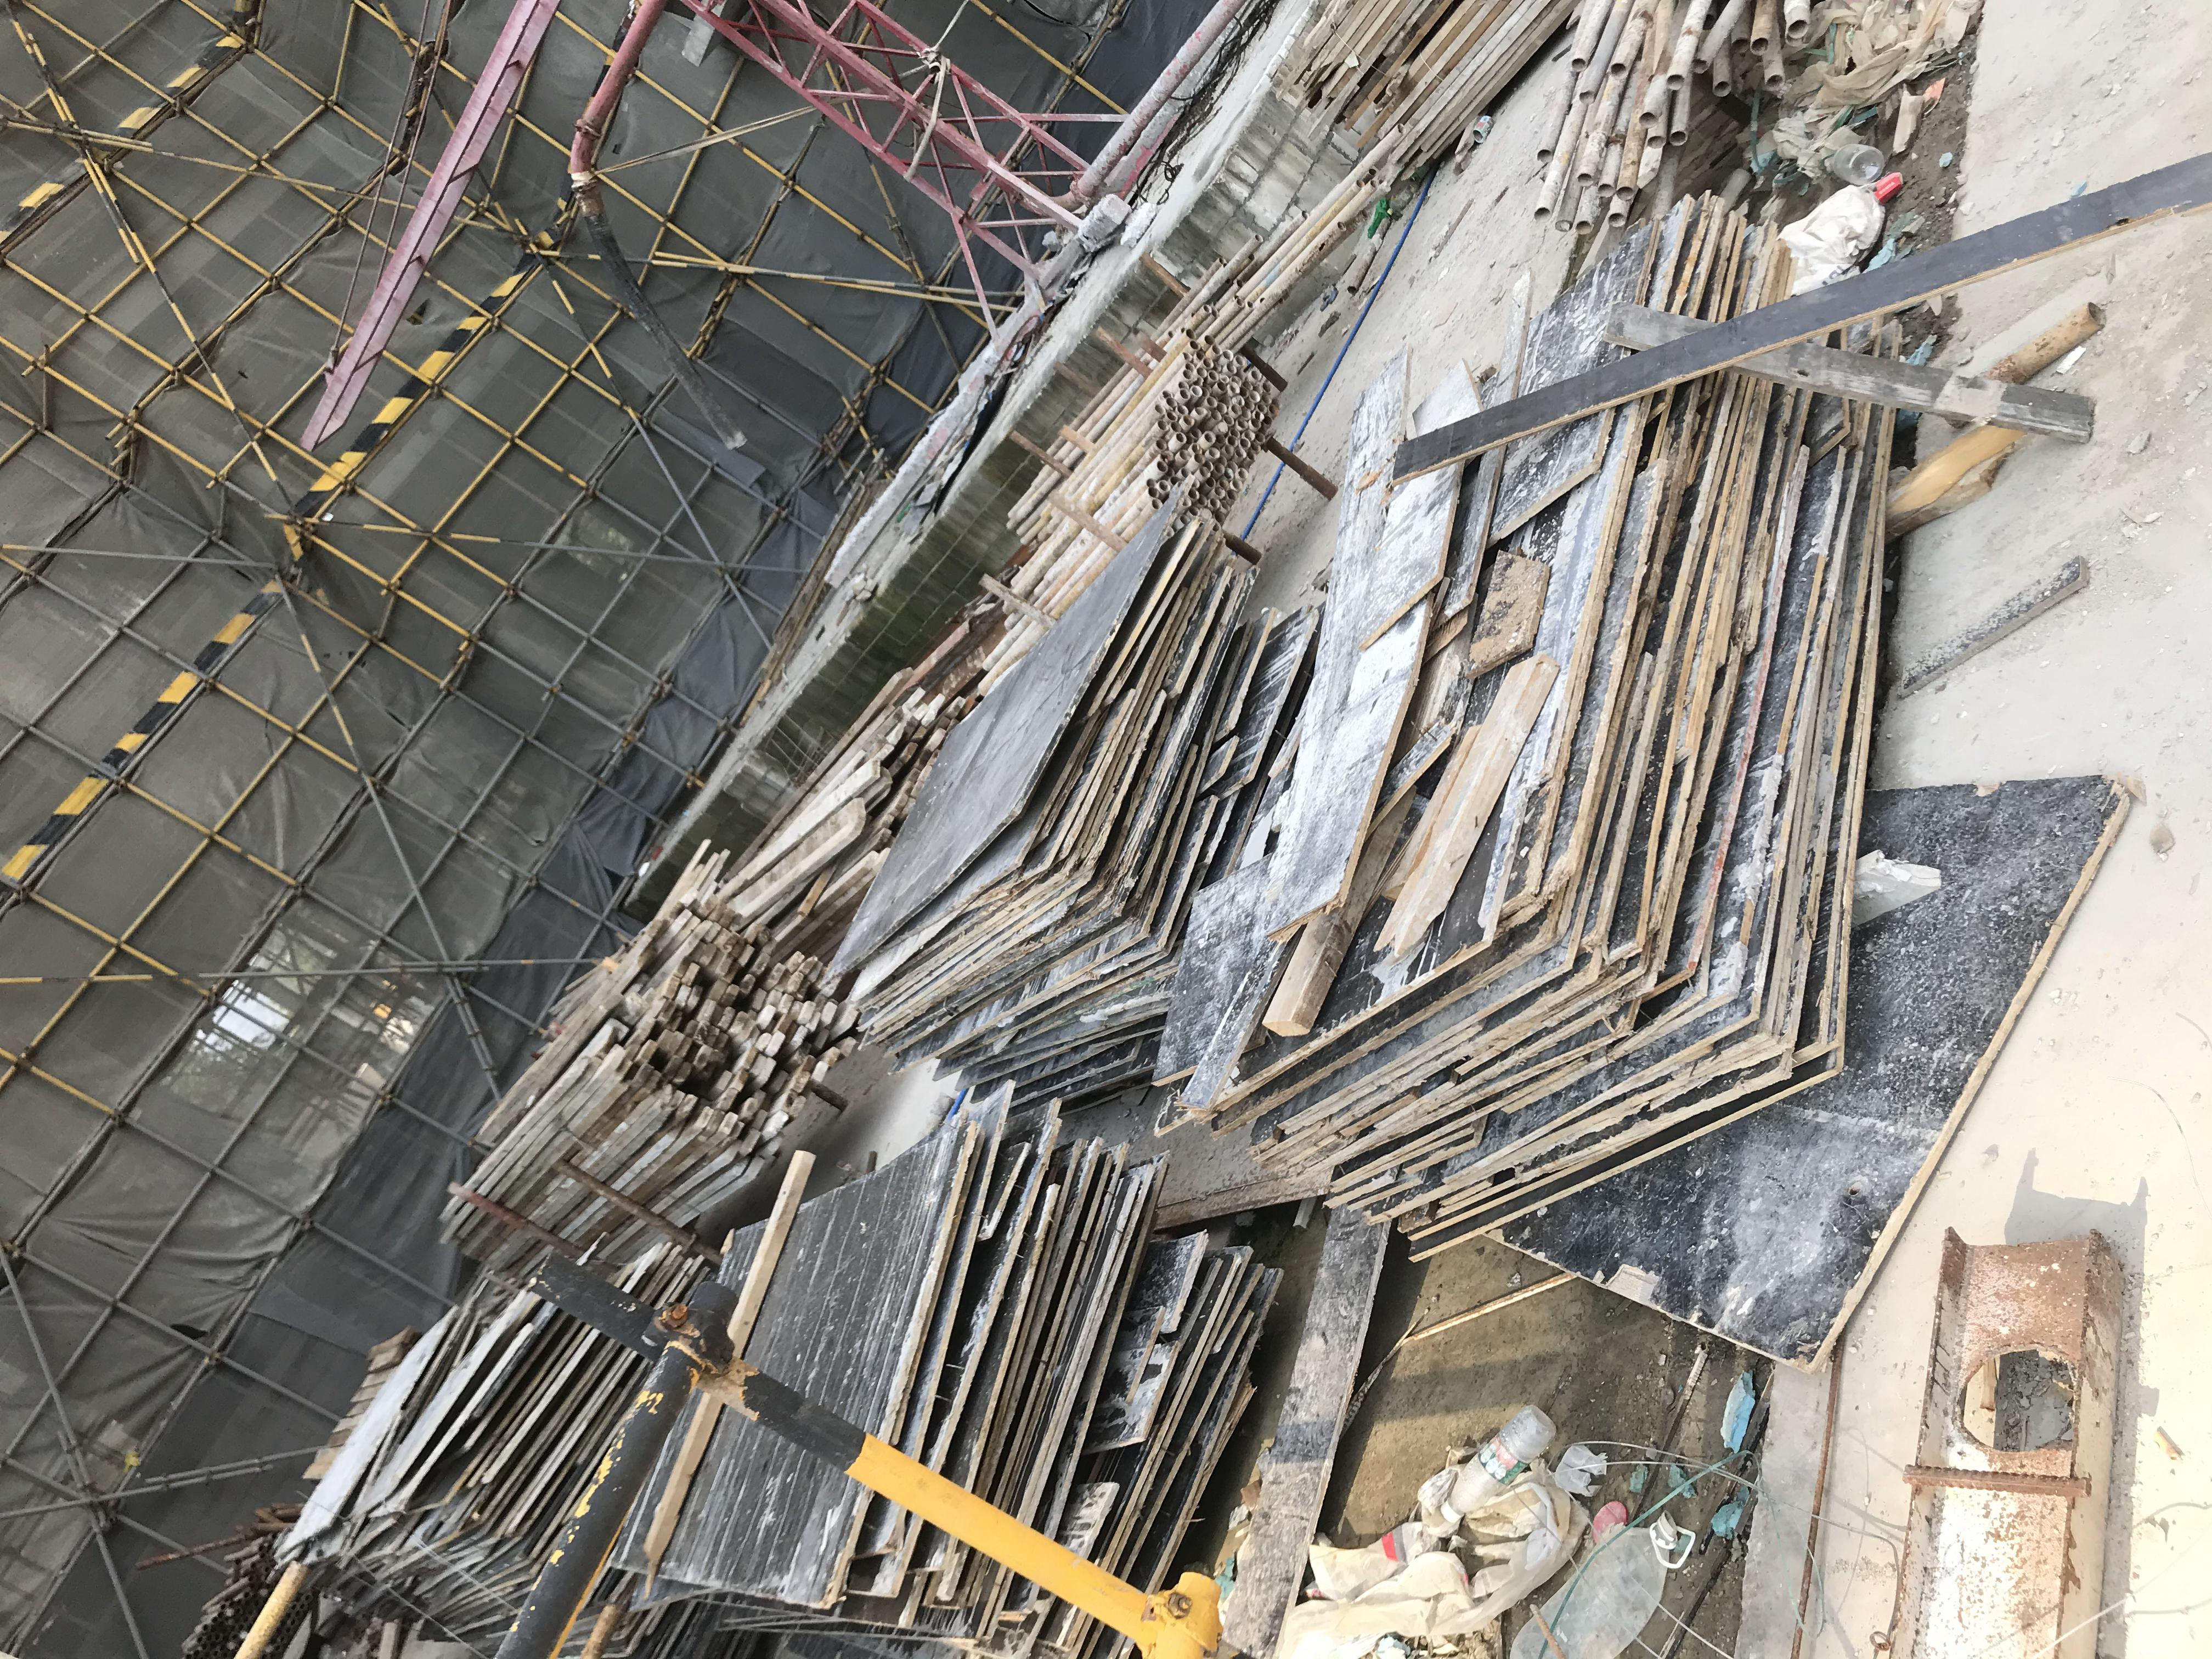board: (1157, 183, 1912, 1265), (601, 1077, 1282, 1659), (833, 505, 1322, 1117), (279, 1249, 716, 1645)
wood: (428, 899, 841, 1255), (728, 664, 967, 962)
